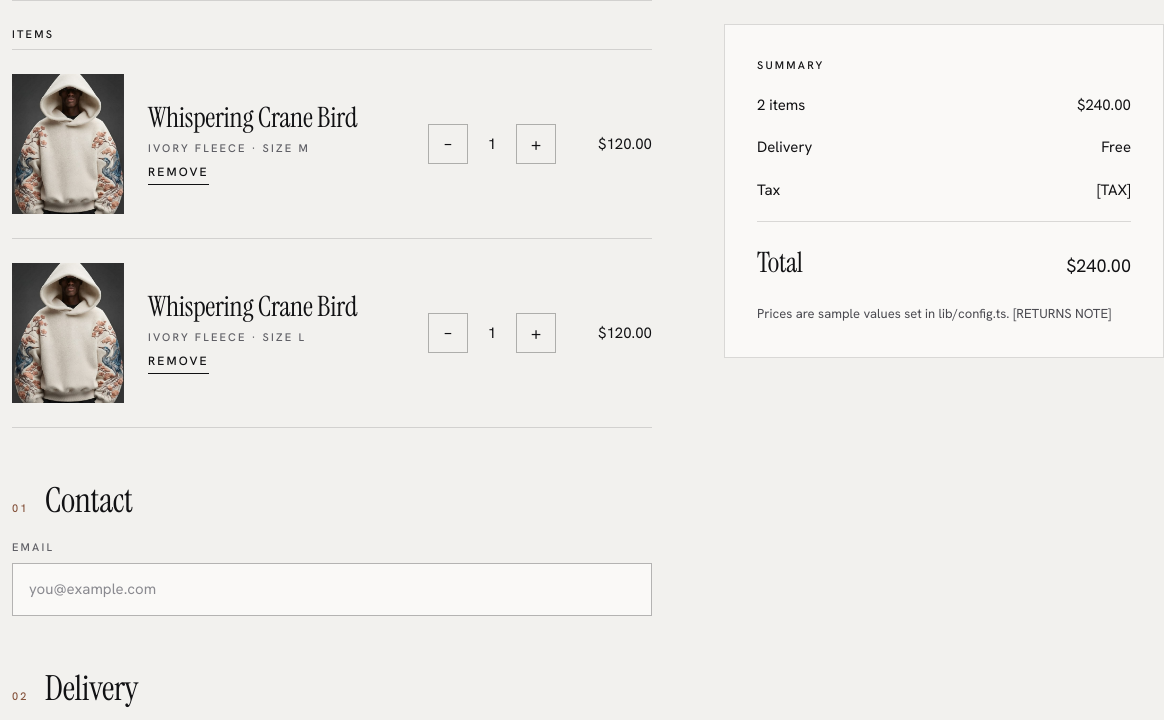
Test: changing quantities › only changes the line whose control was used
The width and height of the screenshot is (1164, 720).
Click the button named "One more" at {"x": 536, "y": 144}, box top-left (516, 124), bottom-right (556, 164)
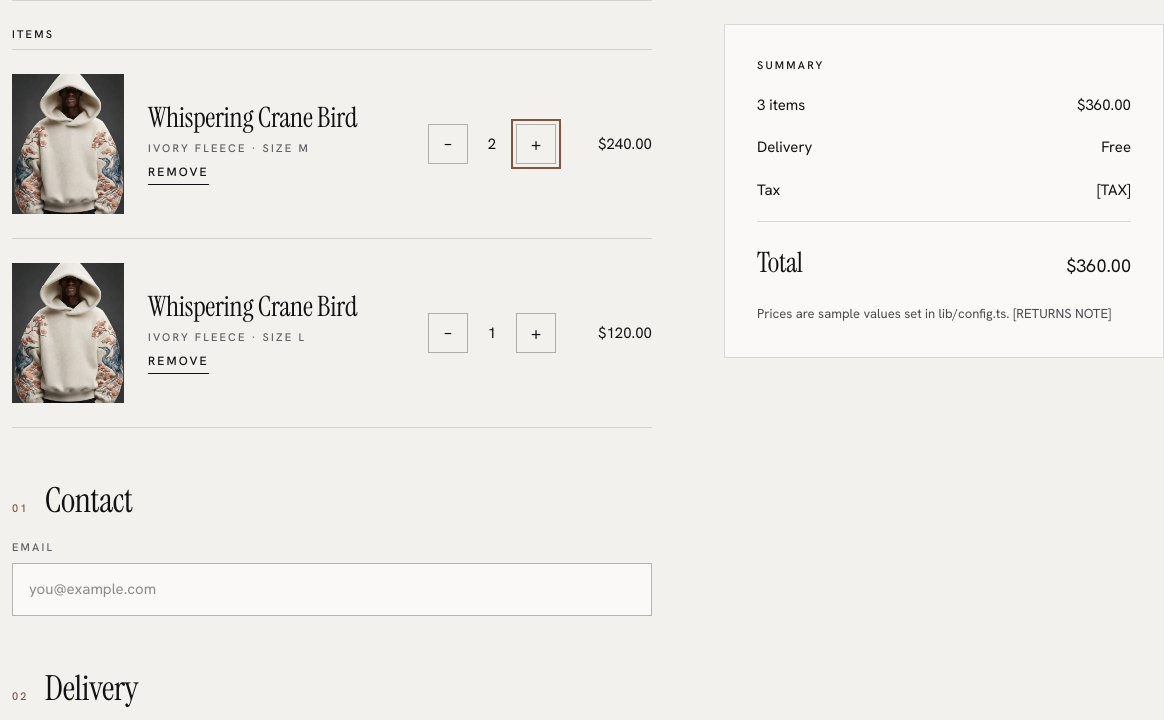
Now the fields labelled "Quantity" read "2", "1", in this order, box top-left (488, 134), bottom-right (496, 154); top-left (488, 323), bottom-right (496, 343)
